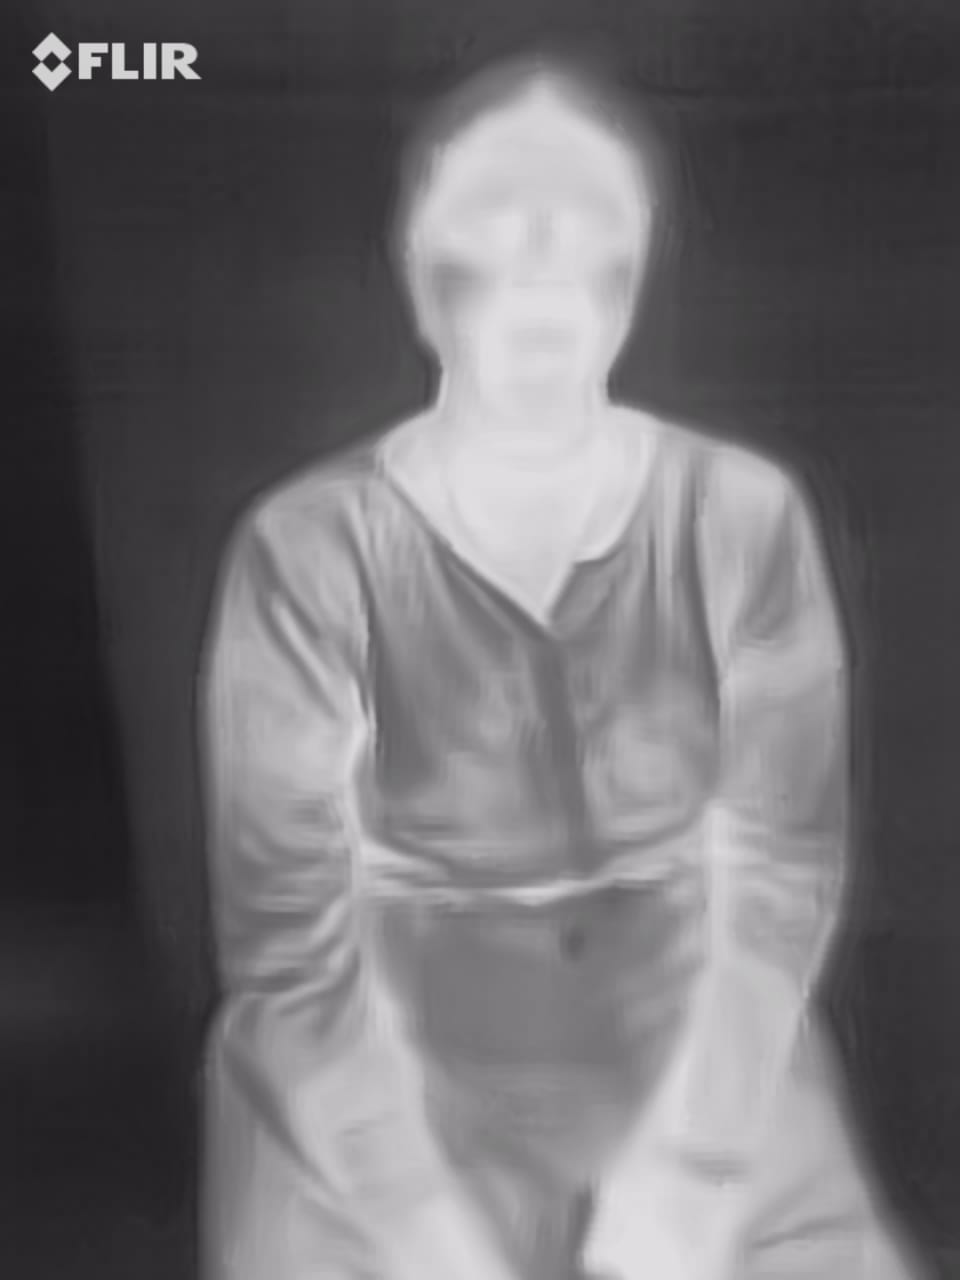head: (394, 54, 668, 438)
